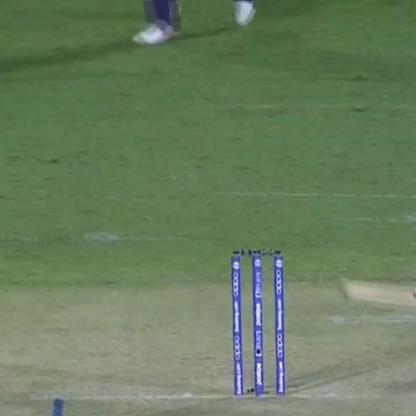bat: (326, 272, 416, 306)
